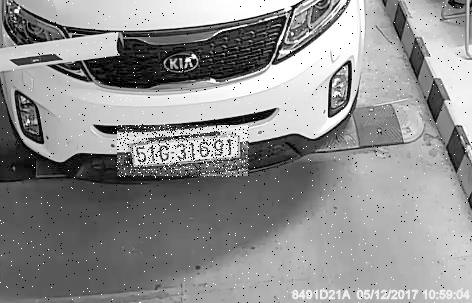License-plate: (119, 127, 251, 179)
